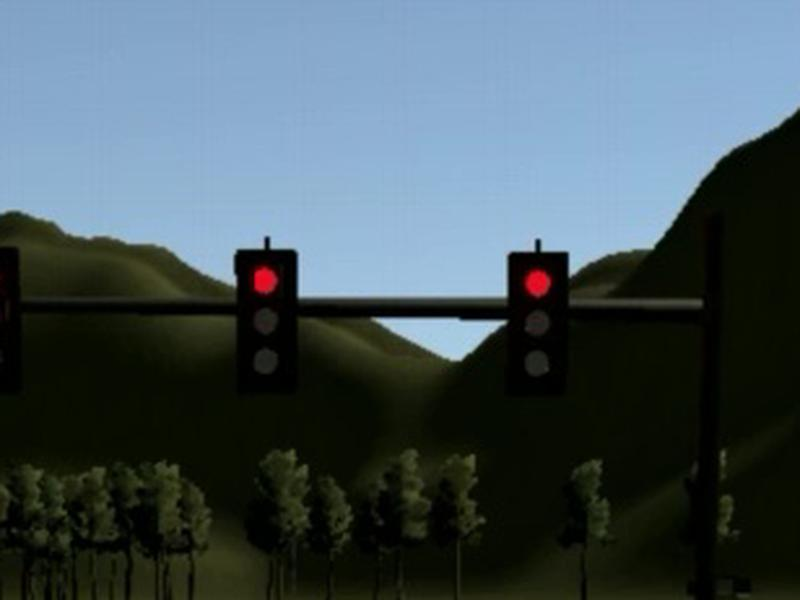Red: (236, 248, 297, 393), (509, 251, 569, 393)
